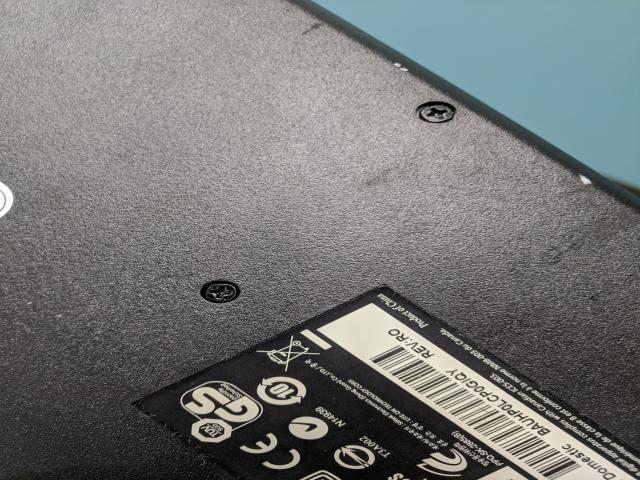CRS: (419, 102, 456, 124), (202, 282, 237, 302)
